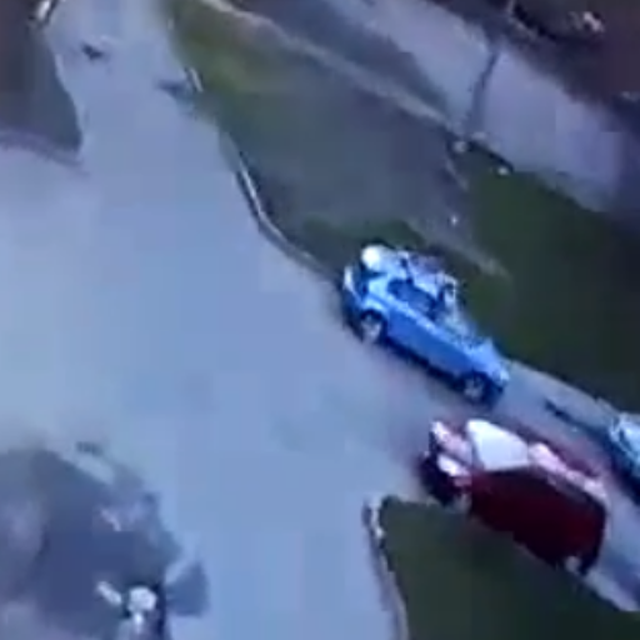car: (429, 415, 609, 573), (339, 242, 508, 403)
